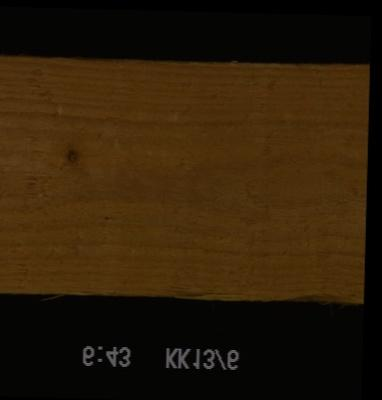dry_knot: (63, 145, 79, 166)
split: (176, 274, 361, 300)
